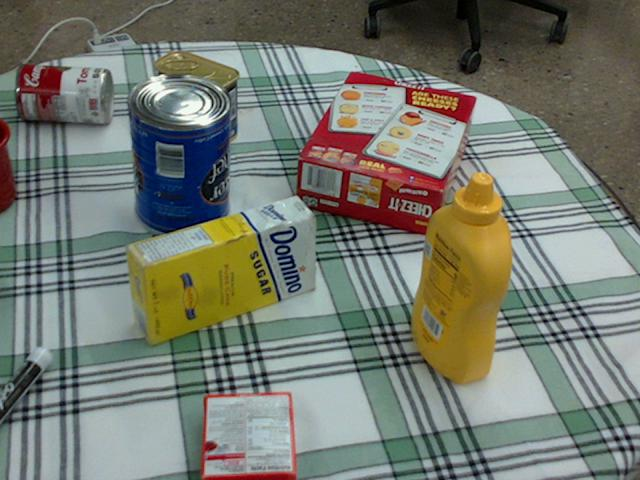cracker_box: (296, 71, 475, 235)
gelatin_box: (200, 392, 294, 479)
large_marker: (0, 346, 51, 422)
master_chef_can: (124, 74, 229, 239)
mug: (0, 116, 16, 209)
mustard_bottle: (411, 172, 511, 381)
potted_meat_can: (153, 52, 238, 145)
sugar_box: (124, 196, 315, 344)
tomato_soup_can: (15, 64, 112, 122)
